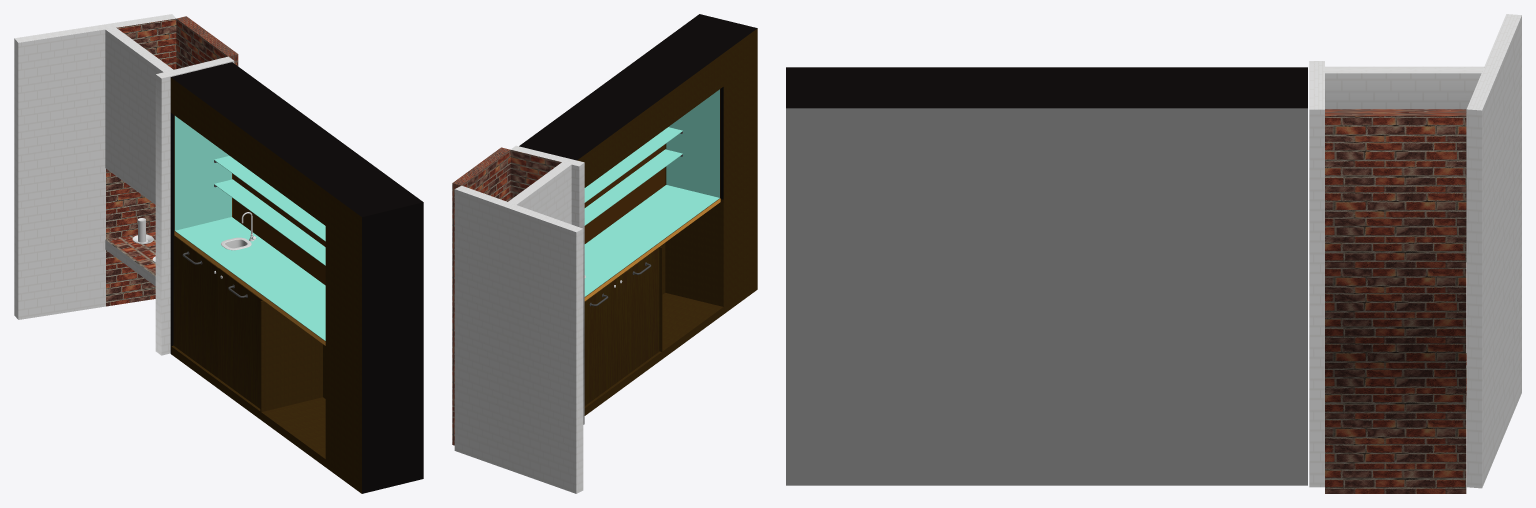
File: KuuraTakka.FBX
3 views of the same model, side by side, from view 1: azimuth 30°, elevation 25°; view 2: azimuth 150°, elevation 25°; view 3: azimuth 270°, elevation 25° (orthographic). The views are drawn at different scales.
Parts seen in each view (by area): view 1: BaariKaappi, Takka, Lasi (×4), BaariAlaAlusta; view 2: BaariKaappi, Takka, Lasi (×4), BaariAlaAlusta; view 3: BaariKaappi, Takka.
Boxes of the visible parts, x1=… form: BaariKaappi: x1=170, y1=62, x2=423, y2=493; Takka: x1=14, y1=14, x2=238, y2=355; Lasi (×4): x1=174, y1=116, x2=325, y2=340; BaariAlaAlusta: x1=174, y1=231, x2=325, y2=345; BaariKaappi: x1=519, y1=14, x2=757, y2=415; Takka: x1=452, y1=145, x2=584, y2=493; Lasi (×4): x1=584, y1=89, x2=719, y2=296; BaariAlaAlusta: x1=584, y1=198, x2=720, y2=300; BaariKaappi: x1=786, y1=67, x2=1307, y2=485; Takka: x1=1309, y1=14, x2=1521, y2=493.
Bounding box in the file's own units: 198 × 342 × 604.
Materials: 12 (3 with a texture image).
